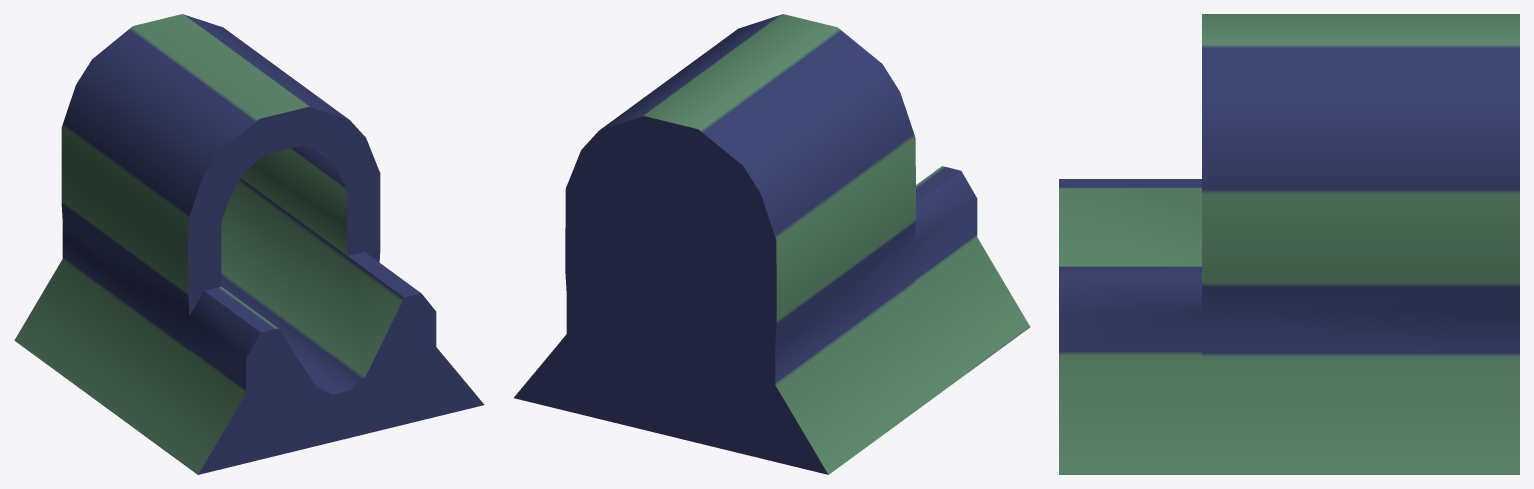
The model's file is energy_circuit_tunnel.FBX.
3 views of the same model, side by side, from view 1: azimuth 30°, elevation 25°; view 2: azimuth 150°, elevation 25°; view 3: azimuth 270°, elevation 25° (orthographic). The views are drawn at different scales.
Visible parts, largest first — view 1: energy_circuit_tunnel; view 2: energy_circuit_tunnel; view 3: energy_circuit_tunnel.
Boxes of the visible parts, x1,y1,x2,y2 form: energy_circuit_tunnel: (14,14,484,474); energy_circuit_tunnel: (514,14,1030,474); energy_circuit_tunnel: (1059,14,1519,474).
Size of the model in its own units: 0.4169 by 0.4626 by 0.3968.
